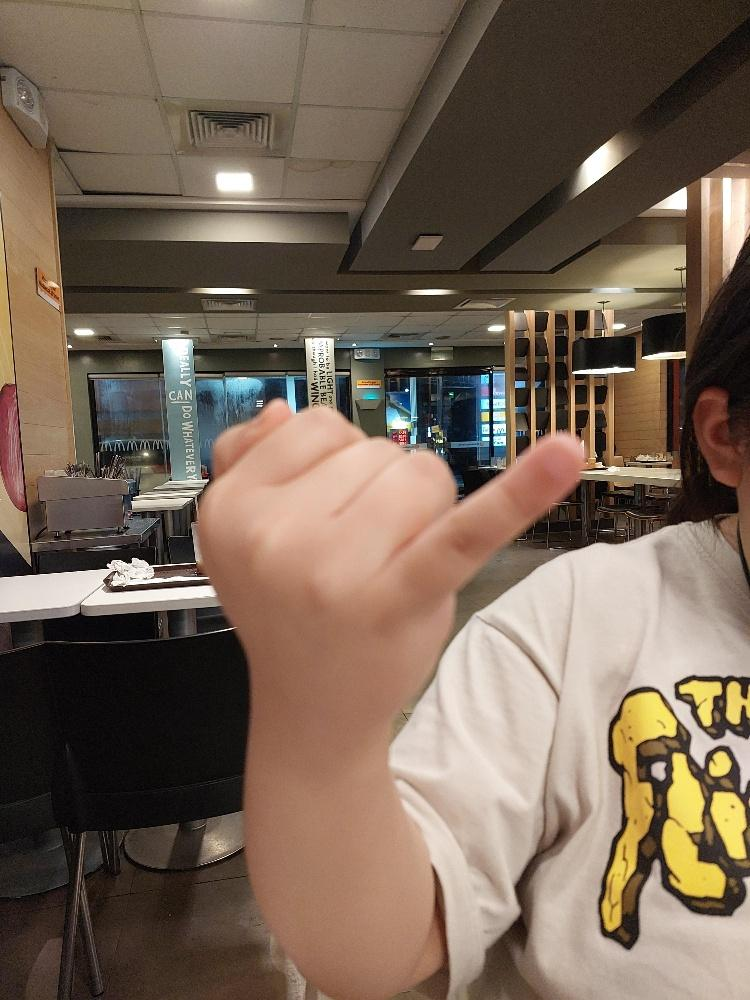j: (194, 395, 586, 715)
